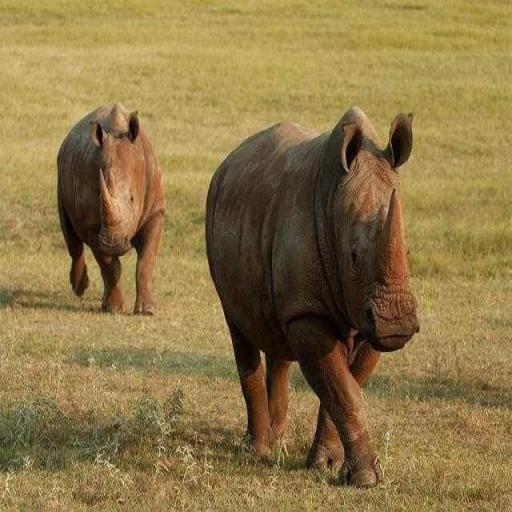Rhino: (204, 105, 420, 488), (55, 100, 166, 316)
